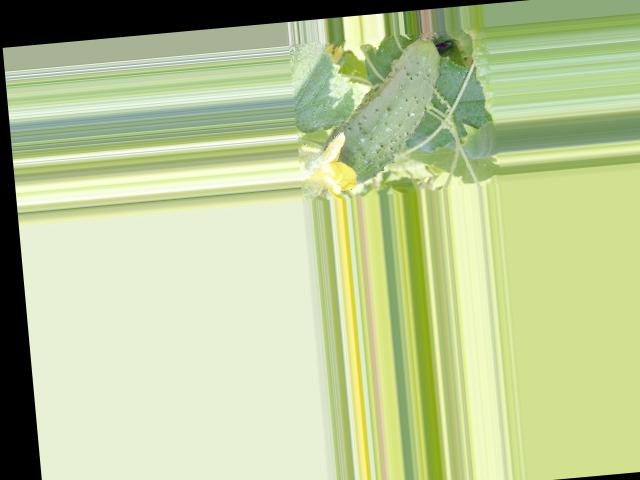cucumber: (313, 30, 451, 186)
